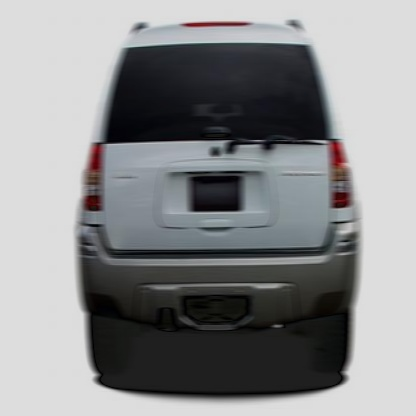Vehicle: (77, 13, 360, 390)
